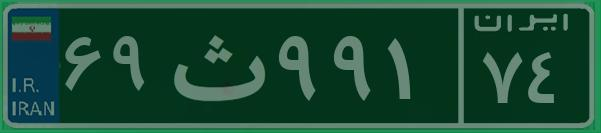1: (385, 28, 445, 110)
4: (525, 38, 570, 115)
6: (57, 26, 110, 107)
7: (475, 38, 525, 113)
9: (273, 28, 330, 110), (330, 28, 385, 110), (110, 28, 158, 105)
ث: (158, 15, 273, 115)
